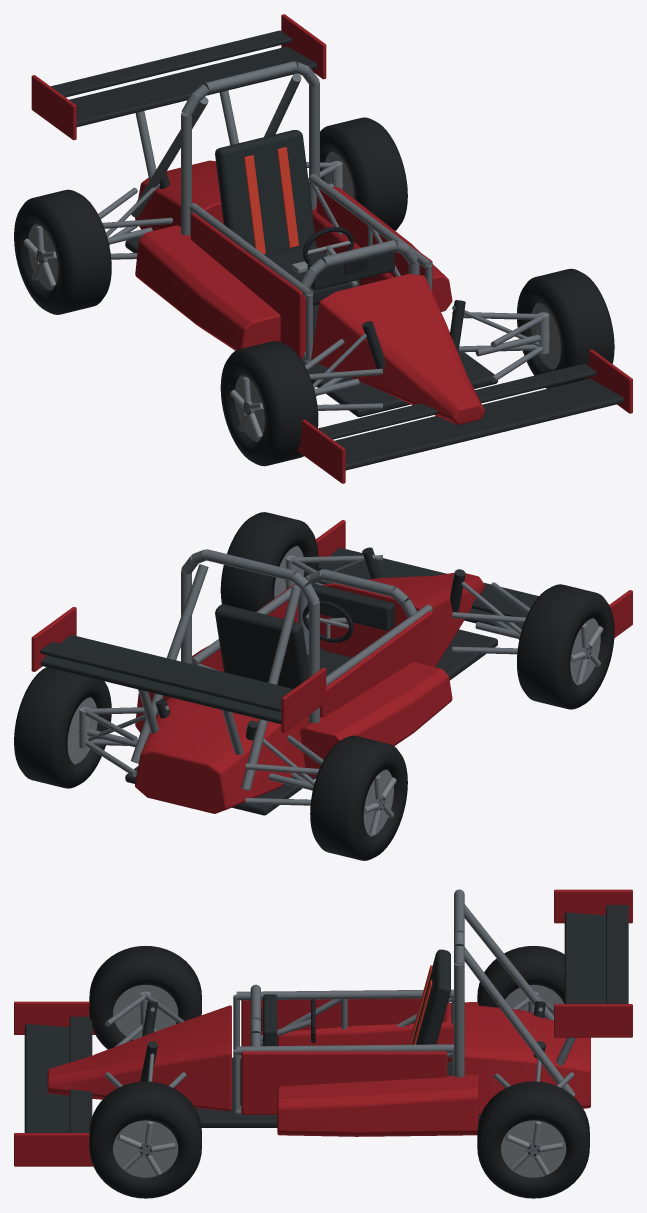
Rendered from fsae-car.glb.
3 views of the same model, one above another, from view 1: azimuth 30°, elevation 25°; view 2: azimuth 150°, elevation 25°; view 3: azimuth 270°, elevation 25° (orthographic). The views are drawn at different scales.
Parts seen in each view (by area): view 1: FSAE_Nose, FSAE_Sidepod_-1, Left_Rear_SlickTire, FSAE_WingMain, FSAE_SeatBack, Left_Front_SlickTire, Right_Front_SlickTire, Right_Rear_SlickTire, FSAE_WingMain.001, FSAE_CockpitSide_-1, FSAE_WingFlap.001, FSAE_WingFlap (+23 smaller); view 2: FSAE_RearBody, Left_Front_SlickTire, Left_Rear_SlickTire, Right_Rear_SlickTire, FSAE_Sidepod_-1, FSAE_WingMain.001, FSAE_Nose, Right_Front_SlickTire, FSAE_SeatBack, FSAE_CockpitSide_-1, FSAE_WingFlap.001, FSAE_Undertray (+21 smaller); view 3: FSAE_Sidepod_1, FSAE_Nose, Right_Rear_SlickTire, Right_Front_SlickTire, FSAE_RearBody, FSAE_CockpitSide_1, Left_Front_SlickTire, FSAE_WingMain, FSAE_CockpitSide_-1, FSAE_WingMain.001, Left_Rear_SlickTire, FSAE_Sidepod_-1 (+19 smaller).
Part boxes in pixels (box(x1,y1,x2,y2)): FSAE_Nose: box(311, 274, 485, 424); FSAE_Sidepod_-1: box(135, 225, 280, 350); Left_Rear_SlickTire: box(14, 189, 111, 314); FSAE_WingMain: box(334, 378, 623, 470); FSAE_SeatBack: box(215, 130, 316, 257); Left_Front_SlickTire: box(220, 341, 318, 466); Right_Front_SlickTire: box(517, 268, 614, 388); Right_Rear_SlickTire: box(320, 117, 407, 230); FSAE_WingMain.001: box(69, 46, 317, 126); FSAE_CockpitSide_-1: box(191, 213, 305, 358); FSAE_WingFlap.001: box(51, 30, 292, 97); FSAE_WingFlap: box(318, 364, 596, 439); FSAE_RearBody: box(135, 697, 308, 813); Left_Front_SlickTire: box(517, 584, 614, 709); Left_Rear_SlickTire: box(310, 735, 407, 860); Right_Rear_SlickTire: box(14, 667, 111, 788); FSAE_Sidepod_-1: box(300, 662, 452, 777); FSAE_WingMain.001: box(41, 634, 293, 724); FSAE_Nose: box(320, 572, 485, 666); Right_Front_SlickTire: box(220, 512, 318, 611); FSAE_SeatBack: box(215, 604, 308, 688); FSAE_CockpitSide_-1: box(320, 611, 432, 717); FSAE_WingFlap.001: box(40, 641, 281, 711); FSAE_Undertray: box(125, 629, 497, 815); FSAE_Sidepod_1: box(277, 1074, 478, 1136); FSAE_Nose: box(47, 1005, 231, 1110); Right_Rear_SlickTire: box(477, 1081, 589, 1198); Right_Front_SlickTire: box(89, 1081, 201, 1198); FSAE_RearBody: box(464, 1004, 590, 1114); FSAE_CockpitSide_1: box(241, 1051, 447, 1114); Left_Front_SlickTire: box(89, 945, 201, 1049); FSAE_WingMain: box(24, 1024, 69, 1132); FSAE_CockpitSide_-1: box(241, 998, 447, 1046); FSAE_WingMain.001: box(564, 912, 605, 1003); Left_Rear_SlickTire: box(477, 945, 564, 1007); FSAE_Sidepod_-1: box(277, 1002, 478, 1062).
Bounding box in the file's own units: 1.56 × 0.982 × 2.59.
